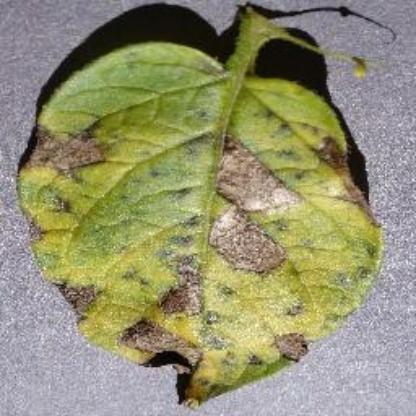Early-Blight: (18, 13, 392, 404)
